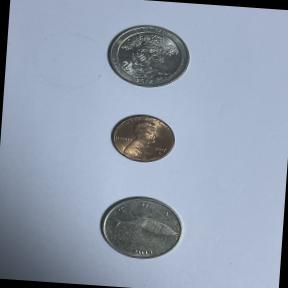coin: (99, 20, 196, 96), (92, 192, 188, 264), (104, 110, 180, 166)
